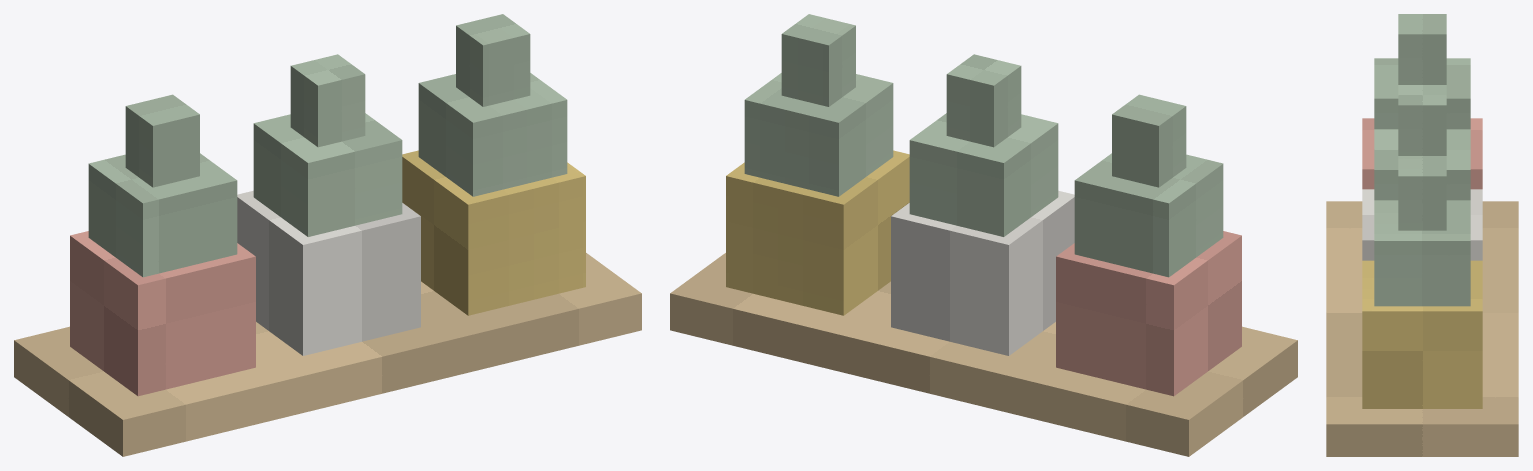
File: pixel-modern-office-succulent-set-f6c58983.glb
3 renders of one model, left to right at view 1: azimuth 30°, elevation 25°; view 2: azimuth 150°, elevation 25°; view 3: azimuth 270°, elevation 25°, orthographic. The views are drawn at different scales.
Visible parts, largest first — view 1: succulent-set; view 2: succulent-set; view 3: succulent-set.
Boxes of the visible parts, x1,y1,x2,y2 form: succulent-set: [14, 14, 641, 456]; succulent-set: [670, 14, 1297, 456]; succulent-set: [1326, 14, 1518, 456].
Size of the model in its own units: 0.44 by 0.23 by 0.16.
Materials: 5 (5 with a texture image).
